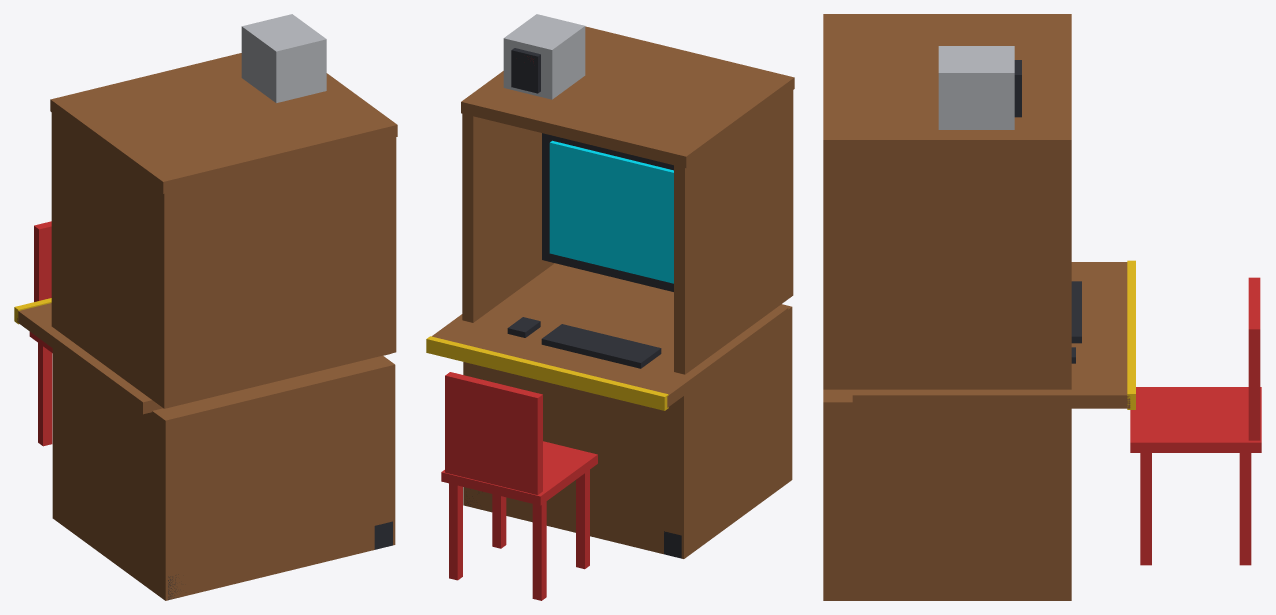
File: env_pisonet_kiosk.obj
3 views of the same model, side by side, from view 1: azimuth 30°, elevation 25°; view 2: azimuth 150°, elevation 25°; view 3: azimuth 270°, elevation 25° (orthographic). The views are drawn at different scales.
Parts seen in each view (by area): view 1: env_pisonet_kiosk; view 2: env_pisonet_kiosk; view 3: env_pisonet_kiosk.
Part boxes in pixels (left/top/right/bottom): env_pisonet_kiosk: left=14, top=14, right=397, bottom=600; env_pisonet_kiosk: left=426, top=14, right=794, bottom=600; env_pisonet_kiosk: left=823, top=14, right=1261, bottom=600.
Size of the model in its own units: 1.08 by 1.96 by 1.5.
